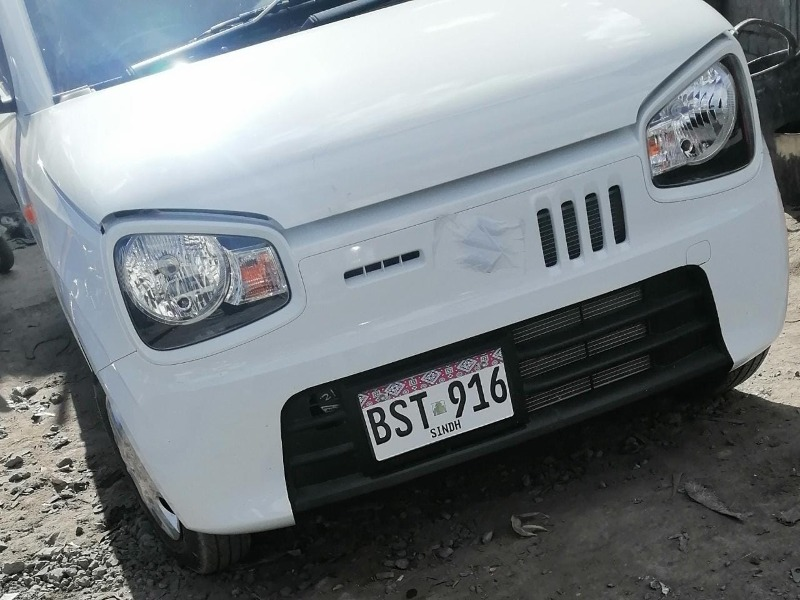License Plate: (356, 349, 517, 466)
